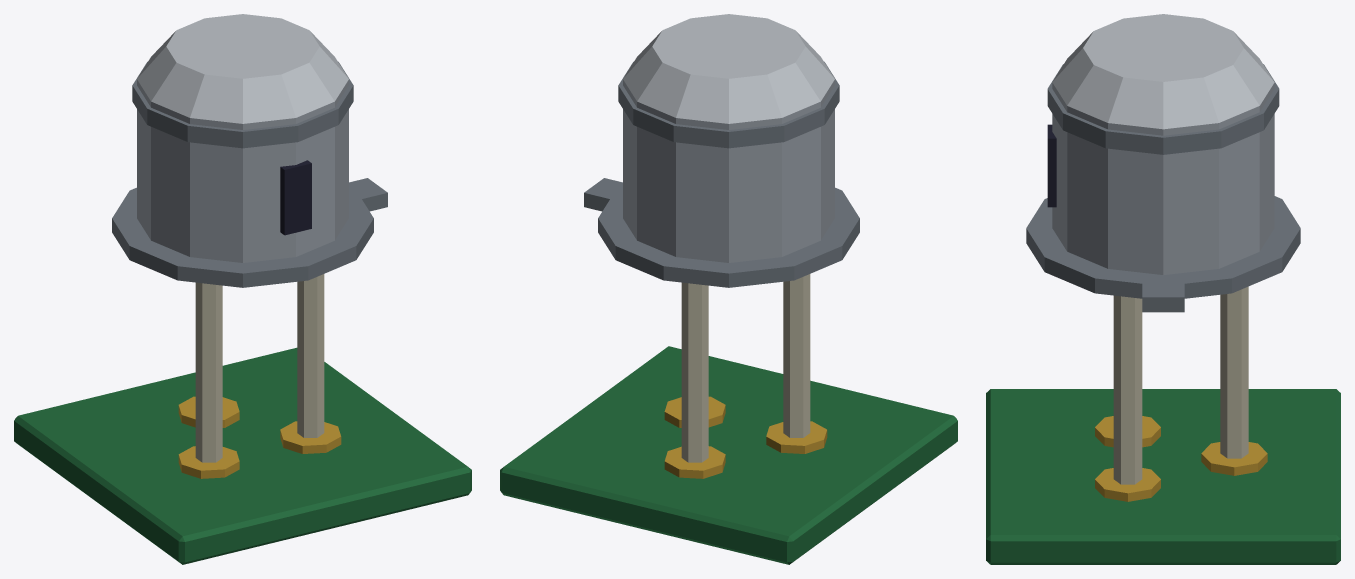
The model's file is transistor.glb.
3 renders of one model, left to right at view 1: azimuth 30°, elevation 25°; view 2: azimuth 150°, elevation 25°; view 3: azimuth 270°, elevation 25°, orthographic. The views are drawn at different scales.
Visible parts, largest first — view 1: transistor; view 2: transistor; view 3: transistor.
Boxes of the visible parts, x1,y1,x2,y2 form: transistor: (14, 14, 471, 564); transistor: (500, 14, 957, 564); transistor: (986, 14, 1340, 564).
Size of the model in its own units: 0.75 by 1.03 by 0.75.
